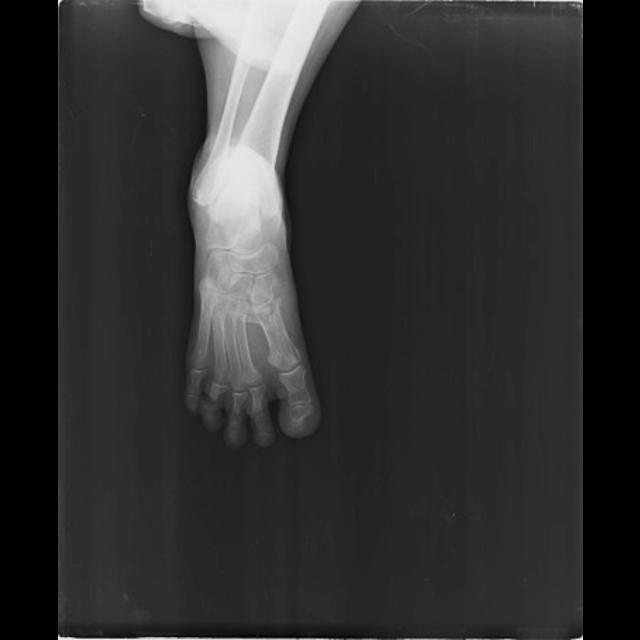Fracture: (247, 296, 289, 341)
